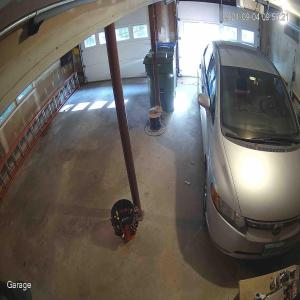garbage bin: (143, 42, 176, 113)
honda civic: (197, 40, 300, 260)
tool bucket: (110, 199, 140, 244)
